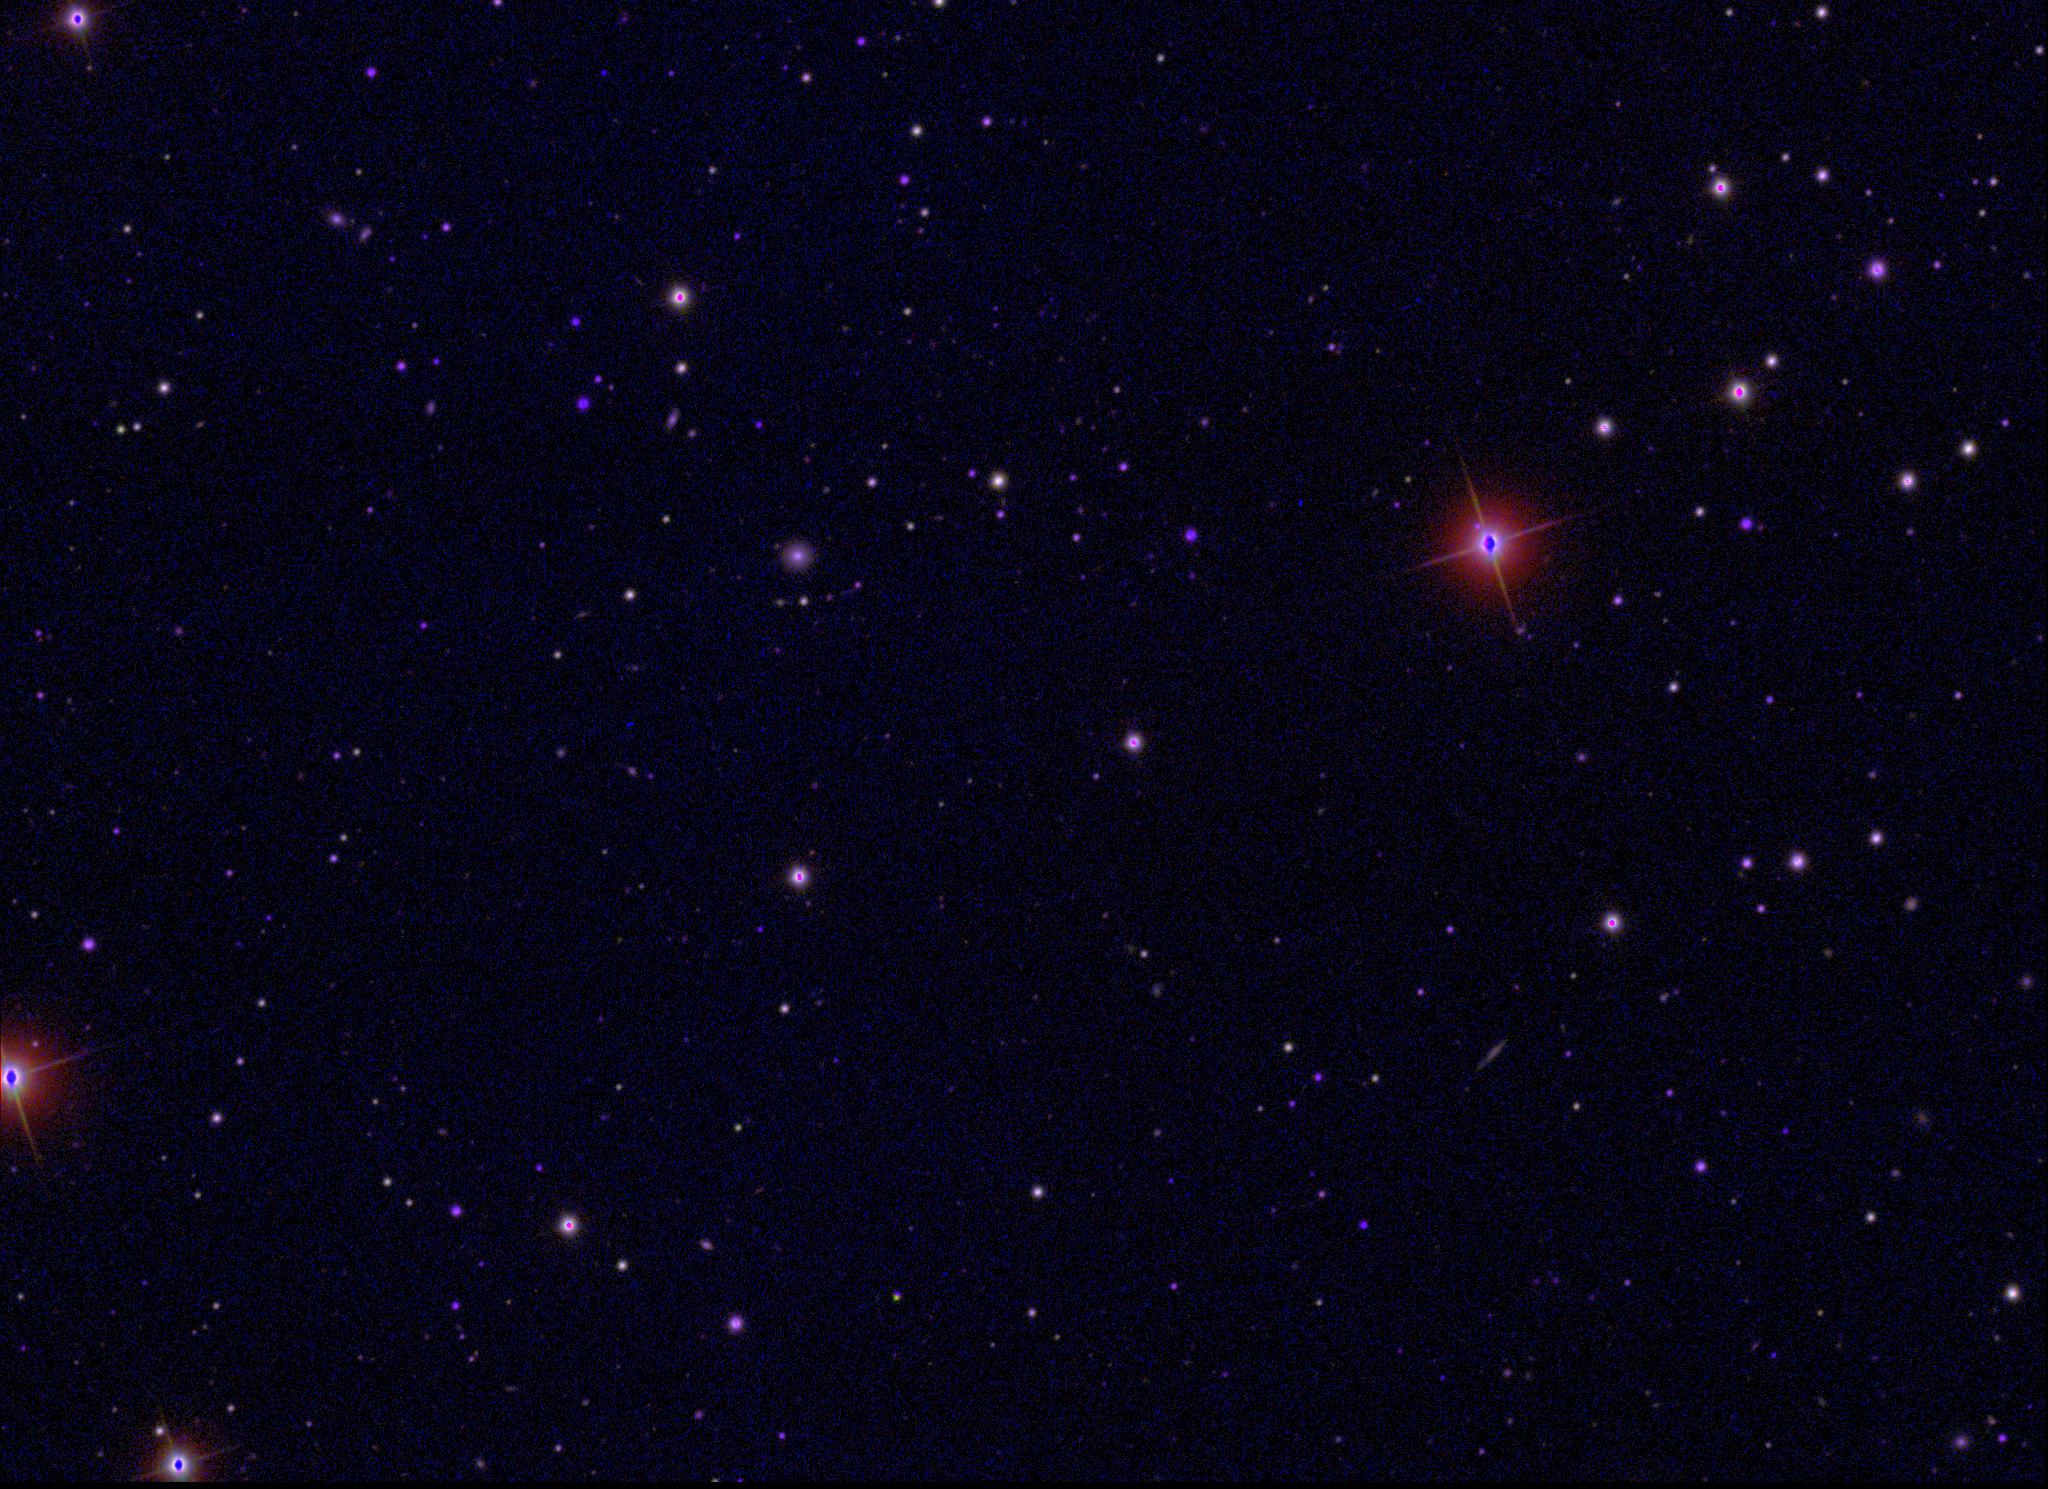L: (596, 65, 611, 80)
